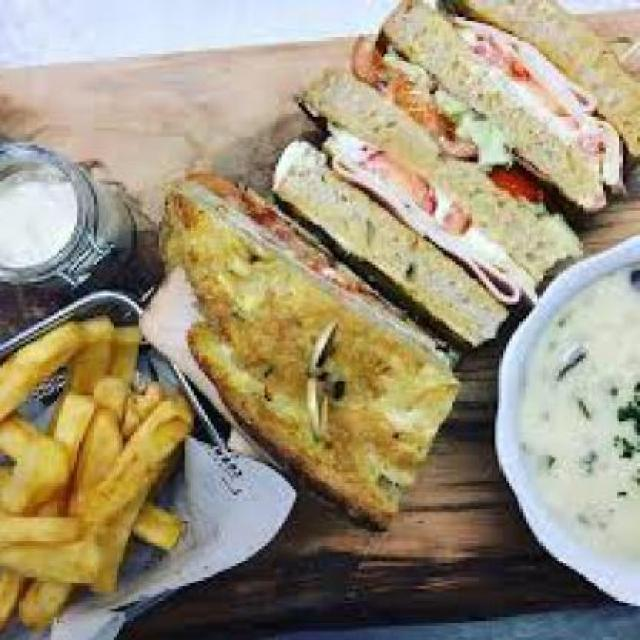french fries: (2, 305, 196, 620)
